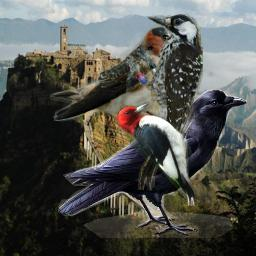Crow: (58, 89, 247, 238)
Swallow: (50, 22, 192, 126)
Woodpecker: (126, 14, 203, 190), (117, 102, 195, 206)
